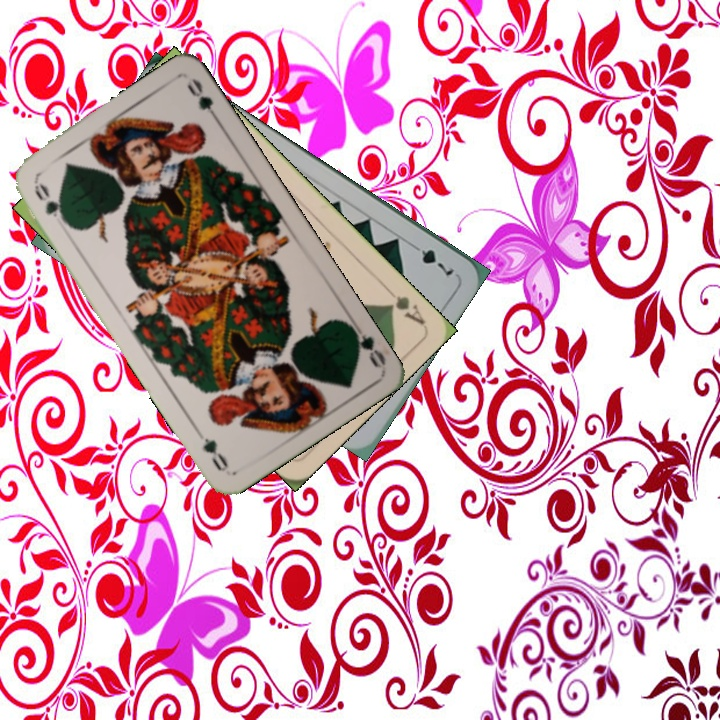G7: (406, 239, 457, 279)
GA: (380, 281, 428, 327)
GO: (344, 316, 388, 371), (30, 177, 71, 227)
